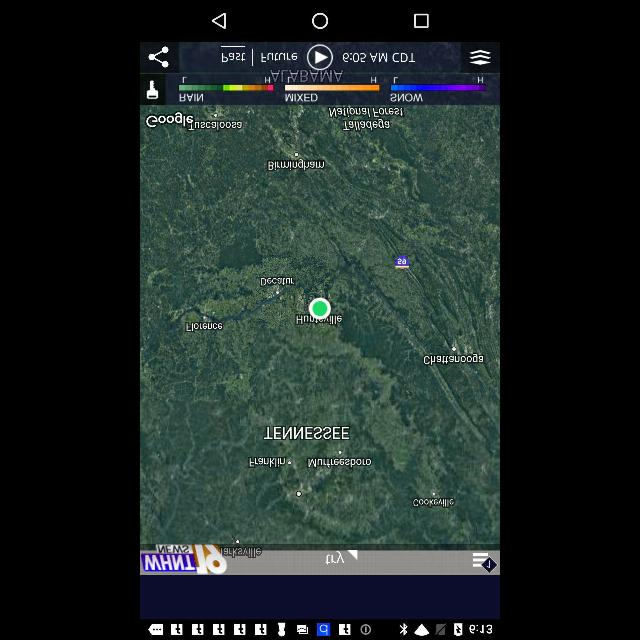icon: (305, 44, 335, 70), (145, 47, 171, 71), (469, 552, 498, 572), (468, 48, 492, 68), (310, 12, 330, 30), (144, 79, 160, 101), (414, 12, 431, 30), (211, 12, 227, 30)
image: (177, 74, 488, 102), (142, 545, 264, 575)
map: (140, 108, 500, 544)
panel: (142, 1, 500, 44)
text: (343, 49, 417, 62)
textbutton: (324, 549, 360, 567), (260, 50, 300, 64), (220, 48, 248, 64)
uppertaskbar: (141, 622, 499, 640)
